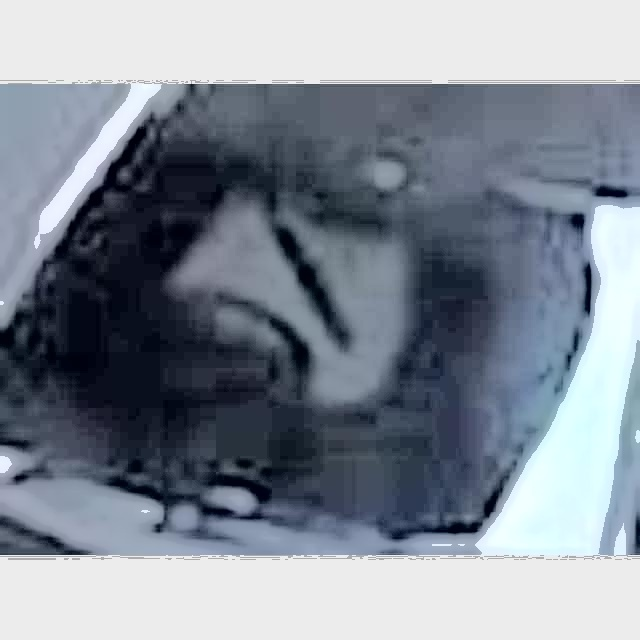pakai: (155, 165, 397, 428)
